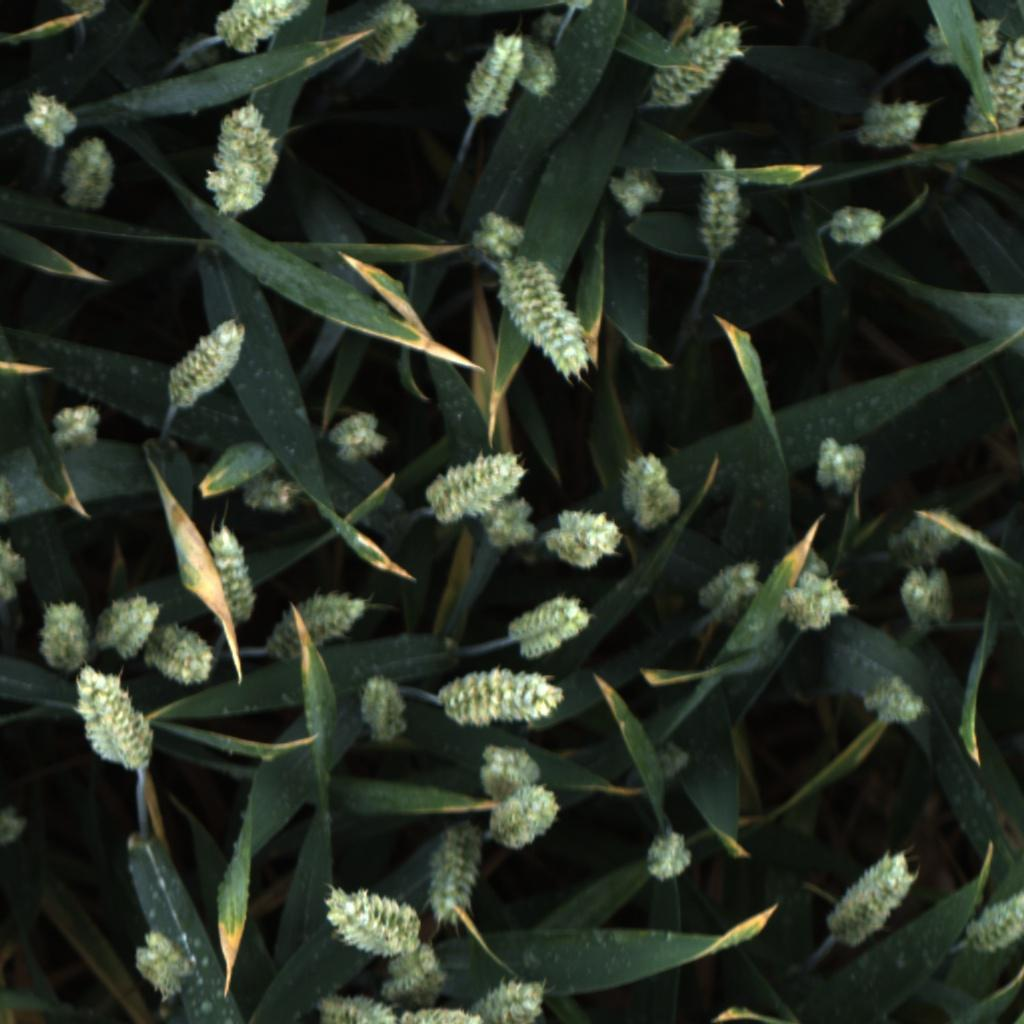0-0: (491, 252, 595, 382), (71, 662, 159, 776), (825, 843, 919, 948), (200, 103, 285, 216), (162, 310, 250, 416), (644, 19, 747, 108), (423, 442, 527, 529), (265, 584, 370, 669), (439, 662, 569, 729), (880, 499, 974, 579), (959, 26, 1023, 140), (309, 880, 413, 948), (506, 589, 602, 658), (92, 588, 166, 667), (202, 525, 261, 624), (620, 448, 687, 534), (773, 571, 858, 637), (546, 506, 628, 573), (697, 146, 745, 260), (147, 619, 218, 695), (483, 782, 562, 850), (464, 30, 521, 124), (426, 829, 481, 924), (212, 1, 308, 55), (129, 930, 198, 1004), (919, 12, 1006, 70), (694, 553, 765, 624), (58, 136, 123, 212), (353, 667, 411, 751), (460, 975, 557, 1024), (893, 562, 957, 635), (34, 592, 92, 671), (862, 668, 933, 732), (854, 91, 932, 148), (809, 430, 870, 501), (351, 4, 420, 66), (384, 942, 454, 1003), (966, 882, 1024, 955), (327, 403, 391, 466), (473, 744, 551, 794), (636, 825, 694, 888), (825, 196, 890, 251), (467, 211, 534, 263), (15, 88, 73, 148), (605, 163, 666, 220), (50, 394, 106, 454), (482, 499, 538, 551), (242, 472, 306, 517), (515, 40, 562, 97), (0, 526, 34, 603), (316, 997, 405, 1024), (783, 542, 837, 584), (648, 737, 693, 787), (394, 1004, 490, 1024), (516, 12, 569, 46), (51, 0, 109, 23), (673, 0, 713, 28)
